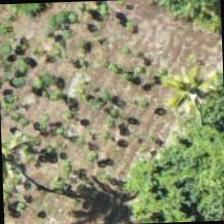Kelapa_Sawit: (138, 37, 223, 131), (140, 148, 223, 224), (0, 91, 56, 184)
